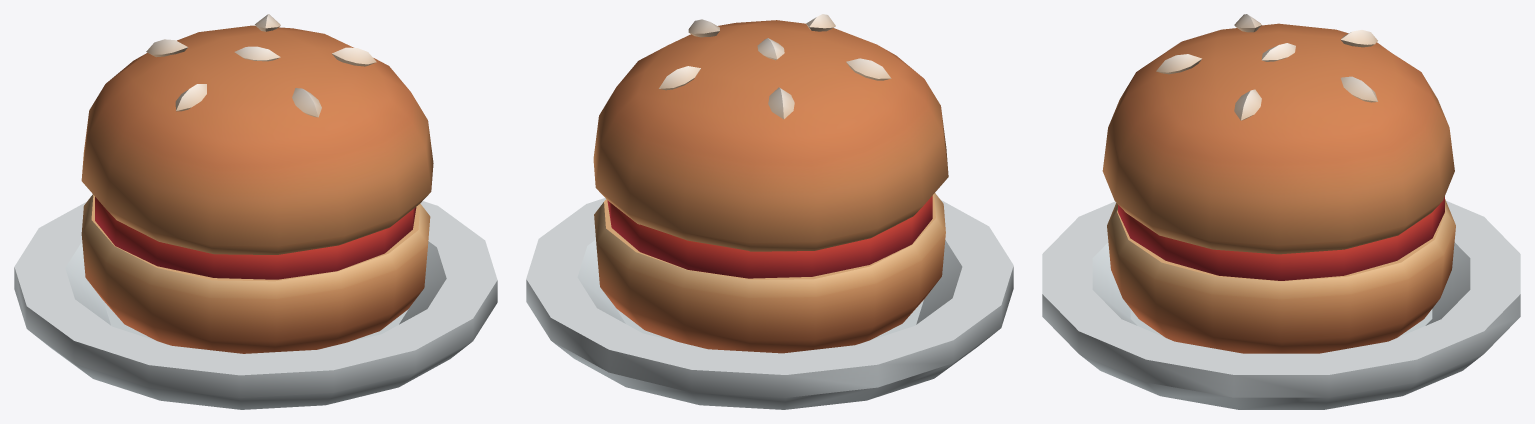
The model's file is plate_bun_tomato.glb.
3 views of the same model, side by side, from view 1: azimuth 30°, elevation 25°; view 2: azimuth 150°, elevation 25°; view 3: azimuth 270°, elevation 25° (orthographic).
Visible parts, largest first — view 1: plate; view 2: plate; view 3: plate.
Part boxes in pixels (x1,y1,x2,y2): plate: (14, 14, 497, 409); plate: (526, 14, 1013, 409); plate: (1042, 14, 1520, 409).
Bounding box in the file's own units: 0.95 × 0.6023 × 0.95.
Materials: 4 (4 with a texture image).
